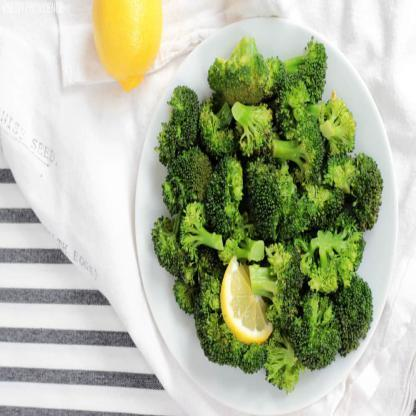broccoli: (153, 35, 383, 392)
